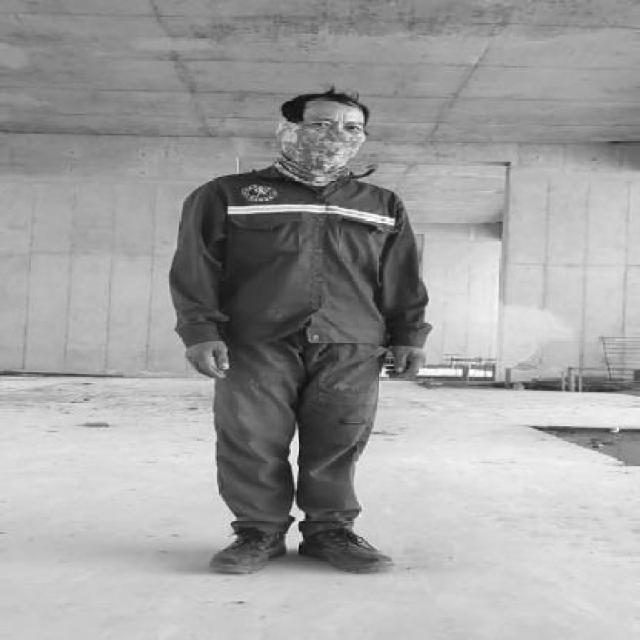face_mask: (294, 119, 368, 170), (283, 84, 372, 124)
hand_noglove: (177, 332, 235, 385), (381, 339, 433, 387)
person: (168, 71, 429, 594)
shoes: (202, 513, 296, 581), (293, 520, 396, 580)
